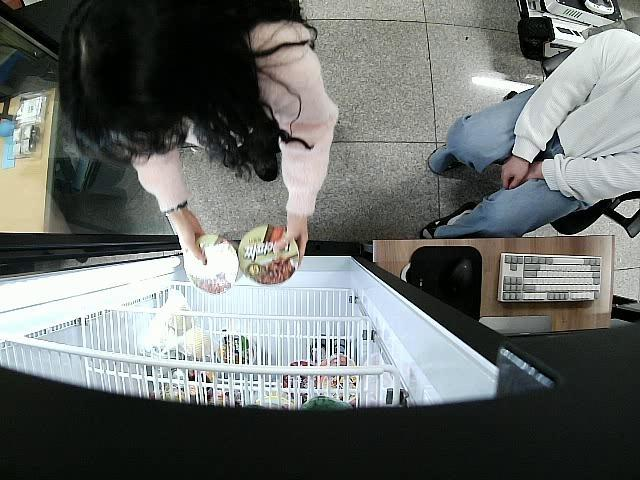03_chapagetti_L: (237, 223, 299, 286), (185, 235, 239, 291)
